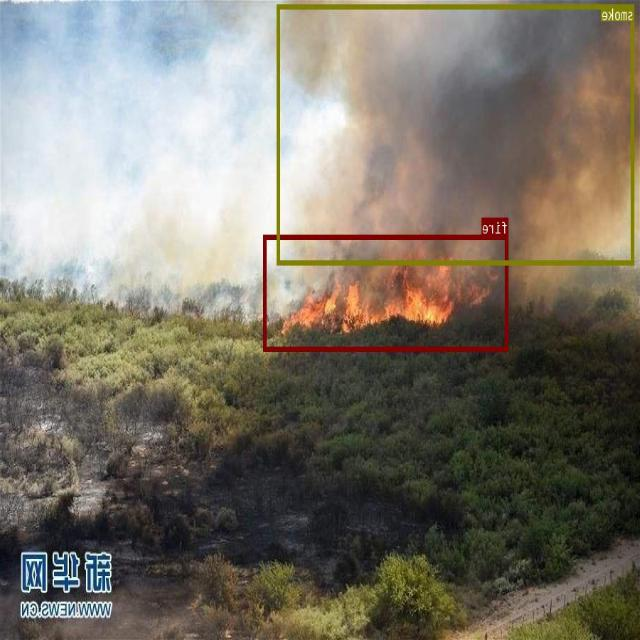fire: (265, 234, 509, 350)
smoke: (278, 4, 634, 264)
